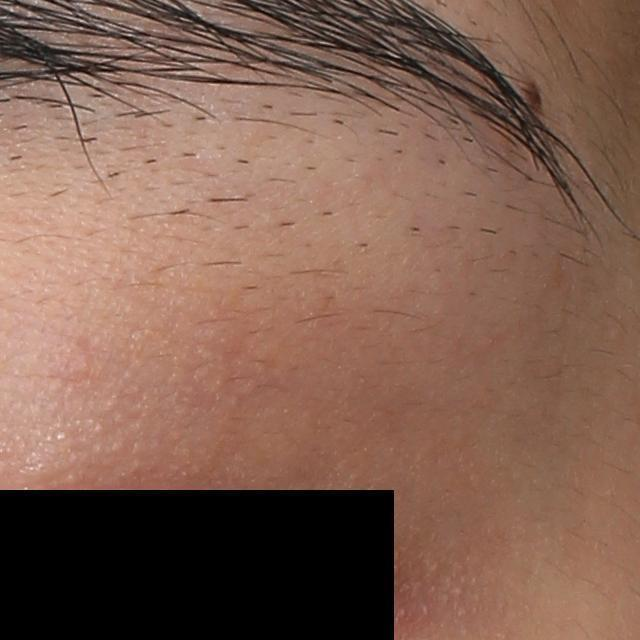nevus: (527, 82, 545, 114)
